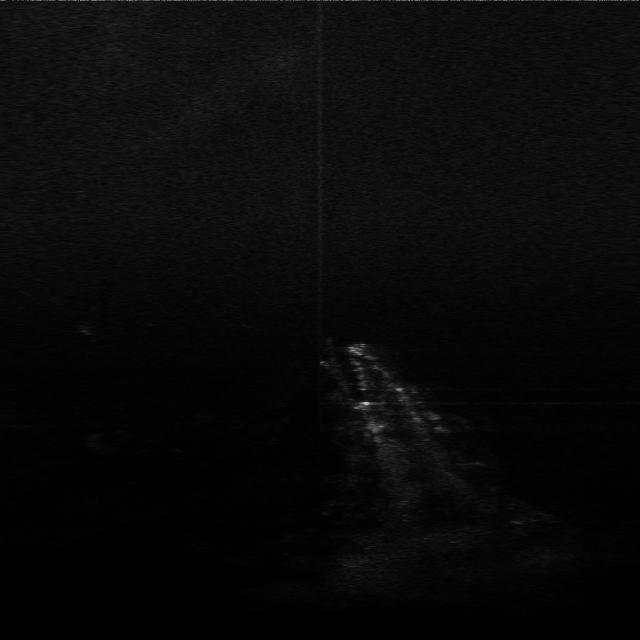rov: (343, 342, 371, 357)
